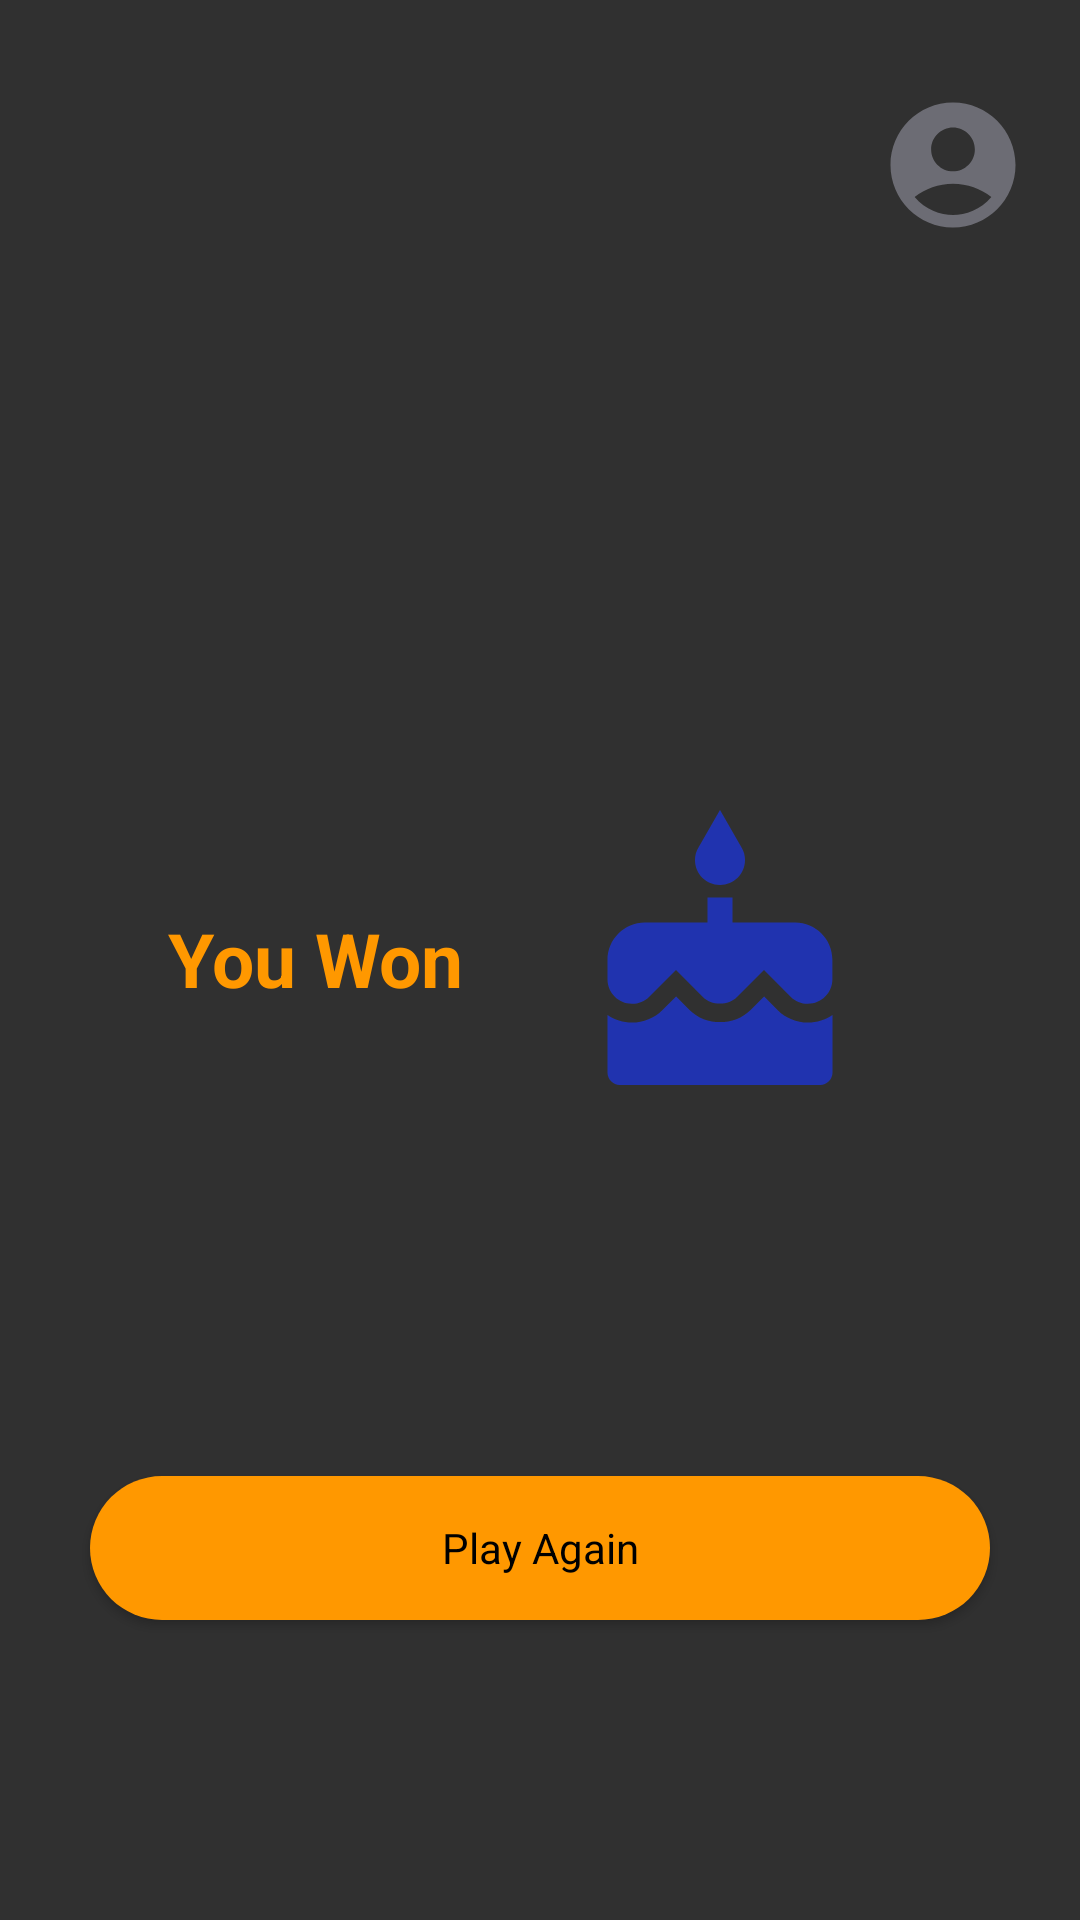

Point at icon controls on the screen. Image size 1080 x 1920, points as point (x, y).
account circle: point (953, 165)
cake: point (720, 947)
